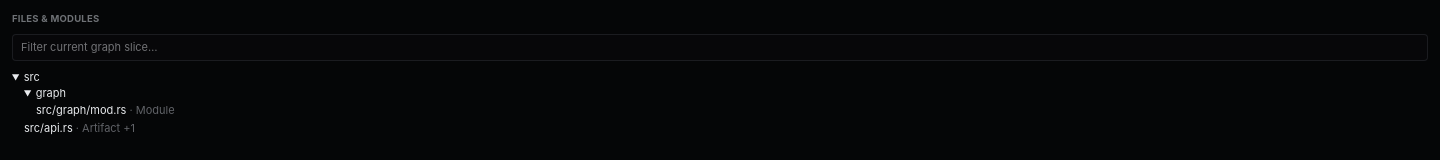
Test: FileModuleTree › nests the bounded layout slice, filters it, and focuses a selected item
Expected: the heading "src" is shown, [24,70,40,84]
Step 1. Click the button "src/api.rs · Artifact +1" → [48, 128], box [24,120,1428,137]
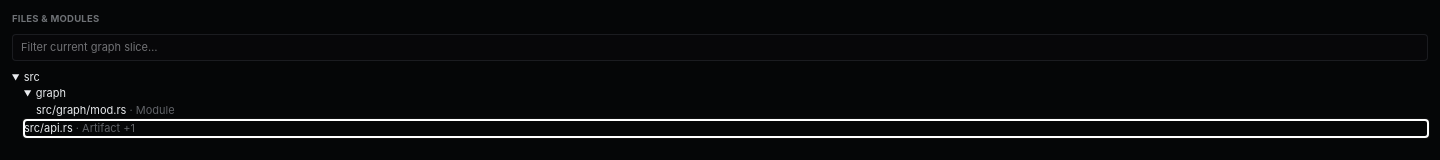
Step 2. Type "graph" into the field named "Filter files and modules" → [720, 48], box [12,34,1428,61]
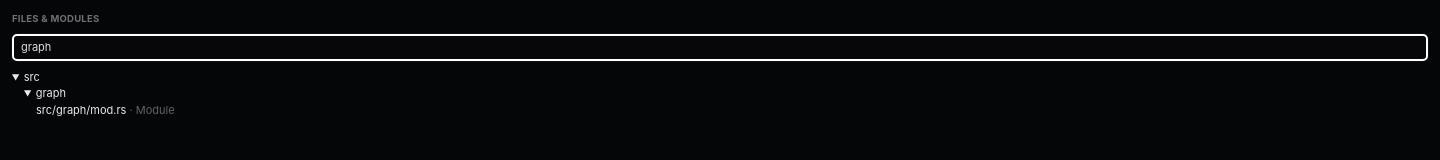
Expected: the button "src/graph/mod.rs · Module" is shown, [36,102,1428,118]
Expected: the button "src/api.rs" is gone
